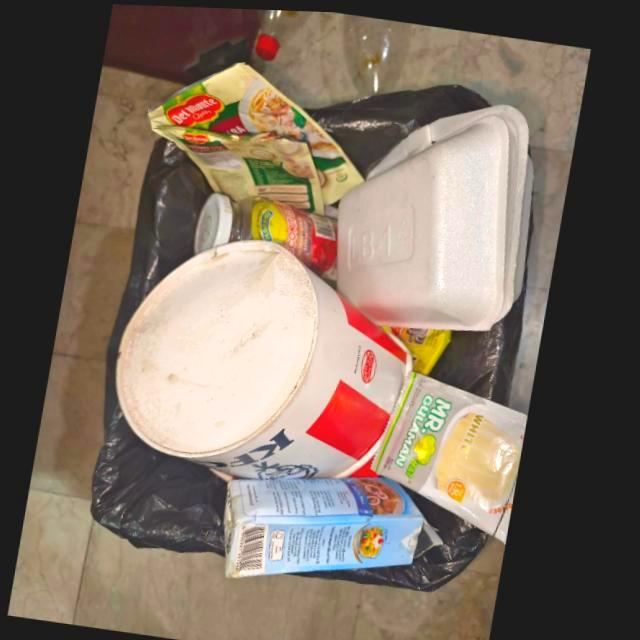cardboard: (120, 238, 413, 478)
food_wrapper: (149, 60, 366, 202), (153, 125, 327, 213)
glass_bottle: (197, 191, 340, 277)
plastic_sachet: (376, 368, 533, 541)
